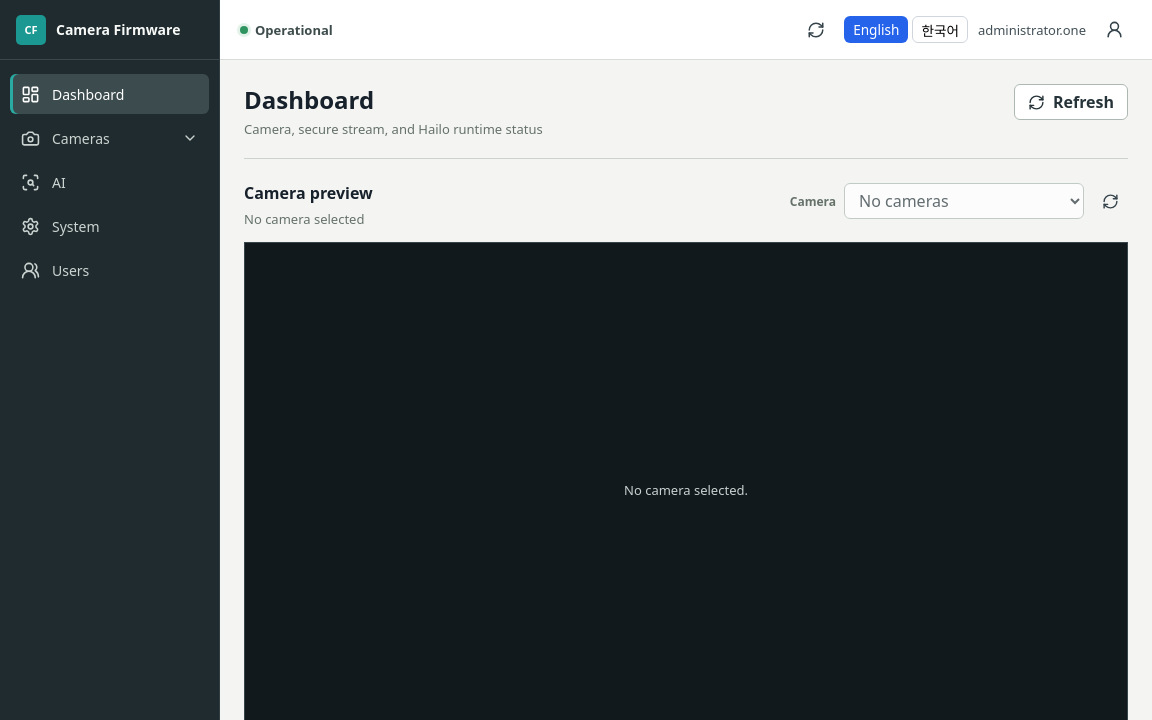
App role-specific route trees › prompts to reauthenticate when management authority lapses, then resumes the view
Check: the heading "Dashboard" is shown, box [244,83,374,116]
Click the button named "Refresh device state" at (816, 30), box [798,12,834,48]
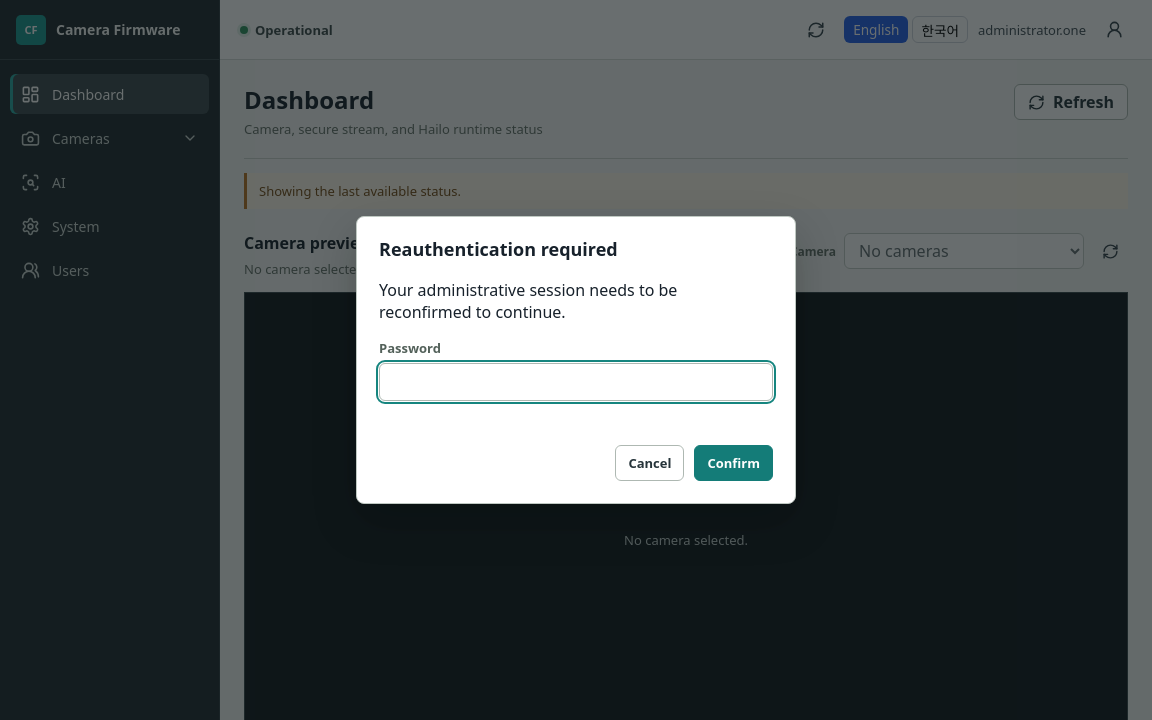
Type "NorthStar!9" into the password field labelled "Password" at (576, 382), box [379,363,773,401]
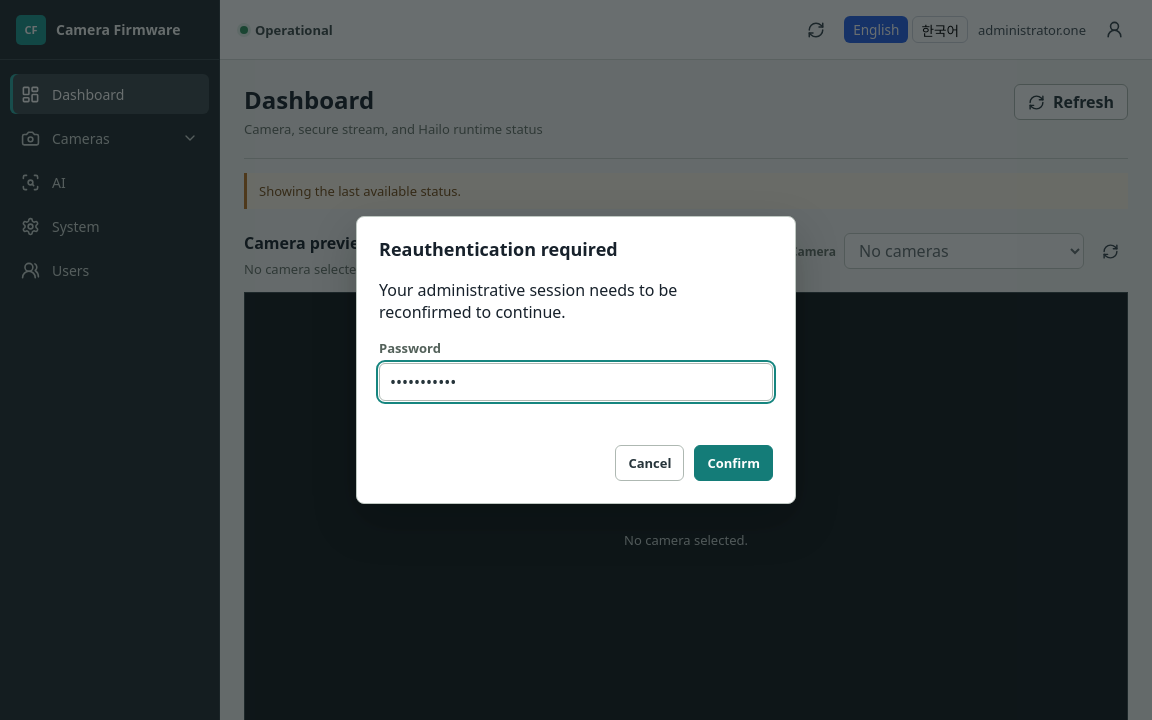
Click the button "Confirm" at (734, 463), box [694,445,773,481]
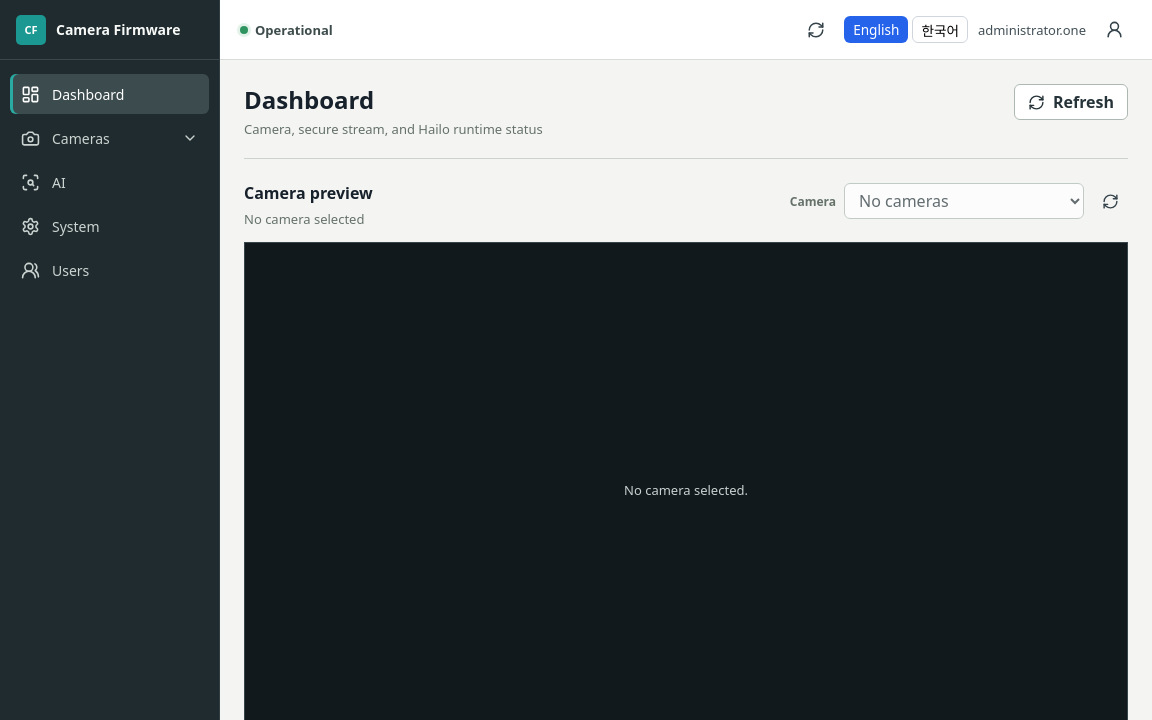
Check: the heading "Dashboard" is shown, box [244,83,374,116]
Check: the label labelled "Password" is gone
